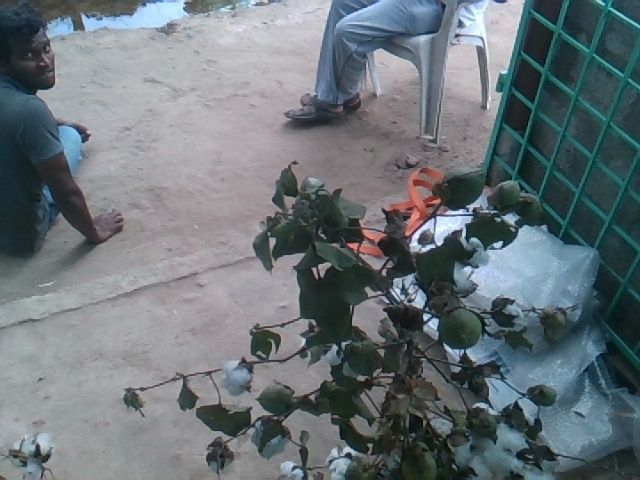cotton: (222, 359, 252, 395)
